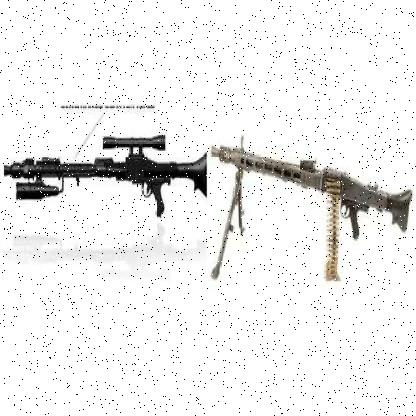rifle: (207, 117, 412, 295), (3, 108, 211, 250)
